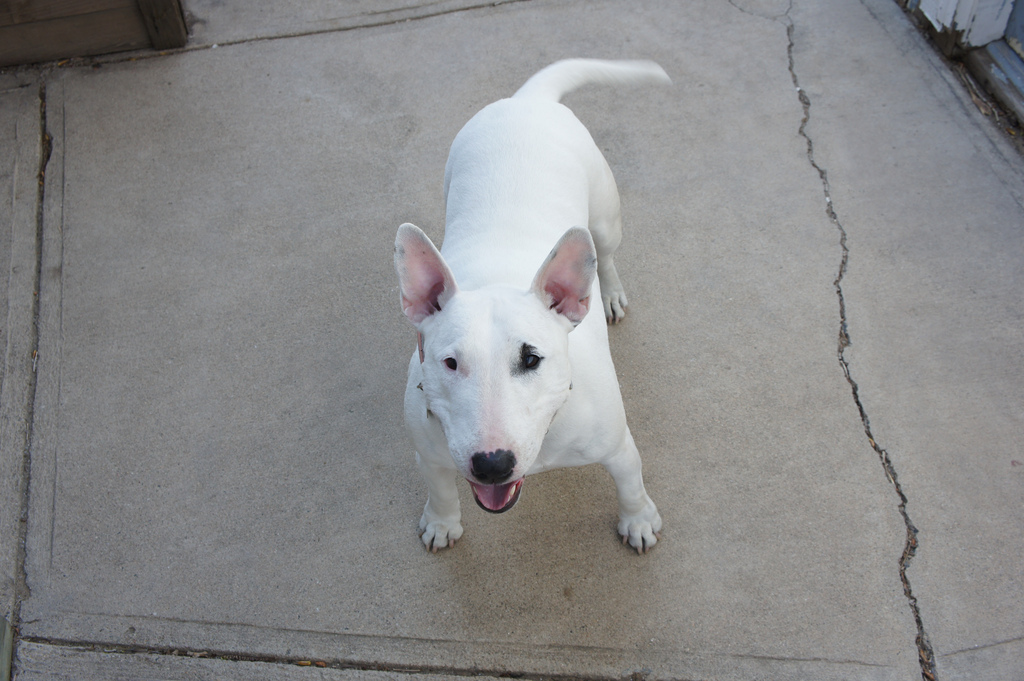bull_terrier: (391, 55, 668, 554)
